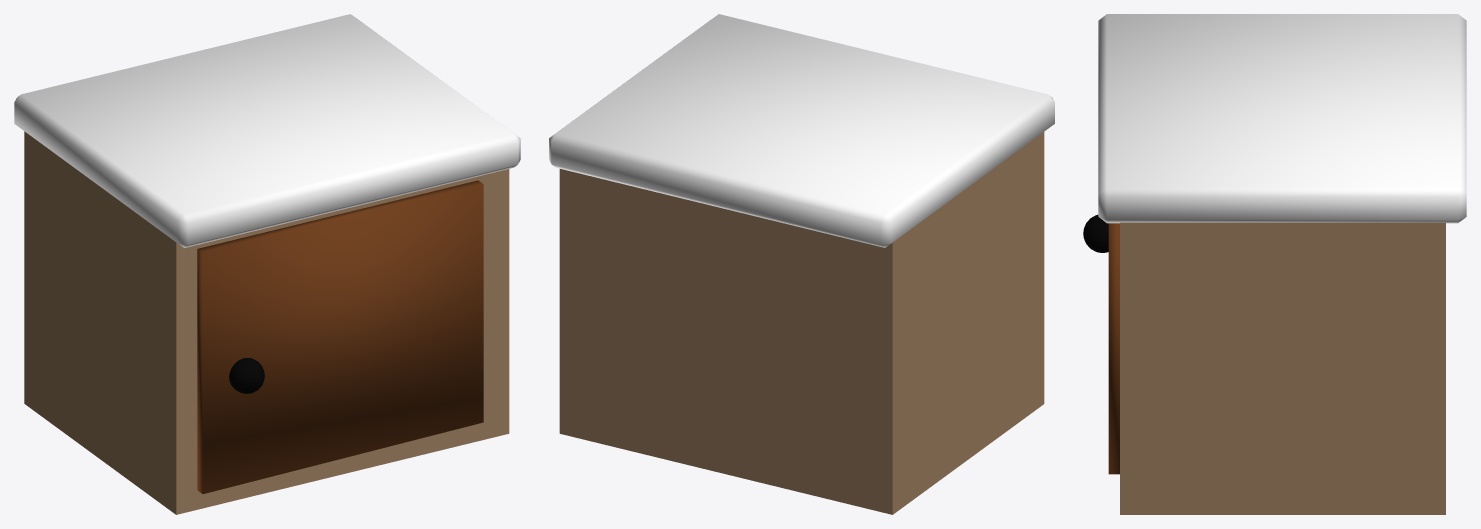
The model's file is cube_right.glb.
3 views of the same model, side by side, from view 1: azimuth 30°, elevation 25°; view 2: azimuth 150°, elevation 25°; view 3: azimuth 270°, elevation 25° (orthographic). The views are drawn at different scales.
Parts seen in each view (by area): view 1: Circle.002; view 2: Circle.002; view 3: Circle.002.
Boxes of the visible parts, <box> form: Circle.002: <box>14,14,520,514</box>; Circle.002: <box>549,14,1054,514</box>; Circle.002: <box>1083,14,1466,514</box>.
Bounding box in the file's own units: 2.61 × 2.22 × 2.35.
